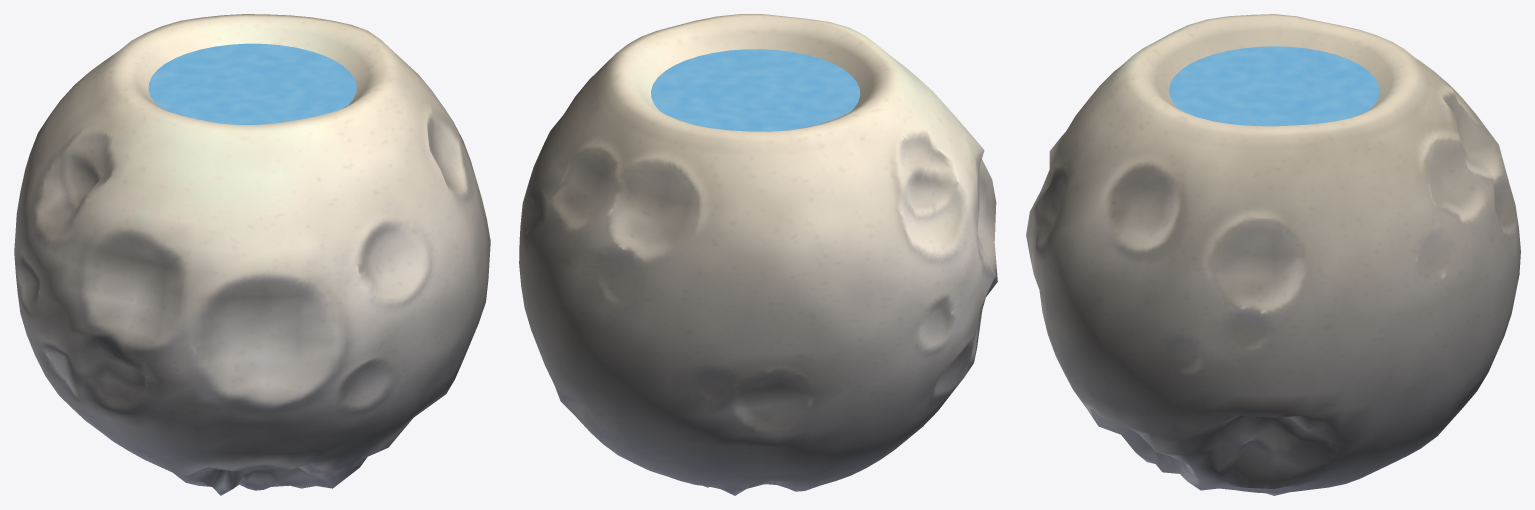
Rendered from TheMoon.glb.
3 renders of one model, left to right at view 1: azimuth 30°, elevation 25°; view 2: azimuth 150°, elevation 25°; view 3: azimuth 270°, elevation 25°, orthographic.
Visible parts, largest first — view 1: TheMoon, TheMoon_Water; view 2: TheMoon, TheMoon_Water; view 3: TheMoon, TheMoon_Water.
Boxes of the visible parts, left/top/right/bottom form: TheMoon: left=14, top=14, right=490, bottom=495; TheMoon_Water: left=148, top=43, right=356, bottom=125; TheMoon: left=519, top=14, right=997, bottom=495; TheMoon_Water: left=651, top=49, right=860, bottom=131; TheMoon: left=1026, top=14, right=1520, bottom=495; TheMoon_Water: left=1169, top=46, right=1379, bottom=126.
Size of the model in its own units: 11.68 by 10.93 by 12.
1 material, 1 textured.
